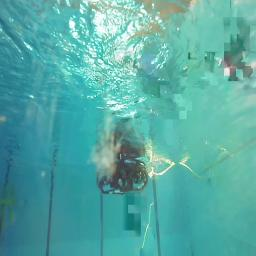Side: (96, 160, 148, 195)
